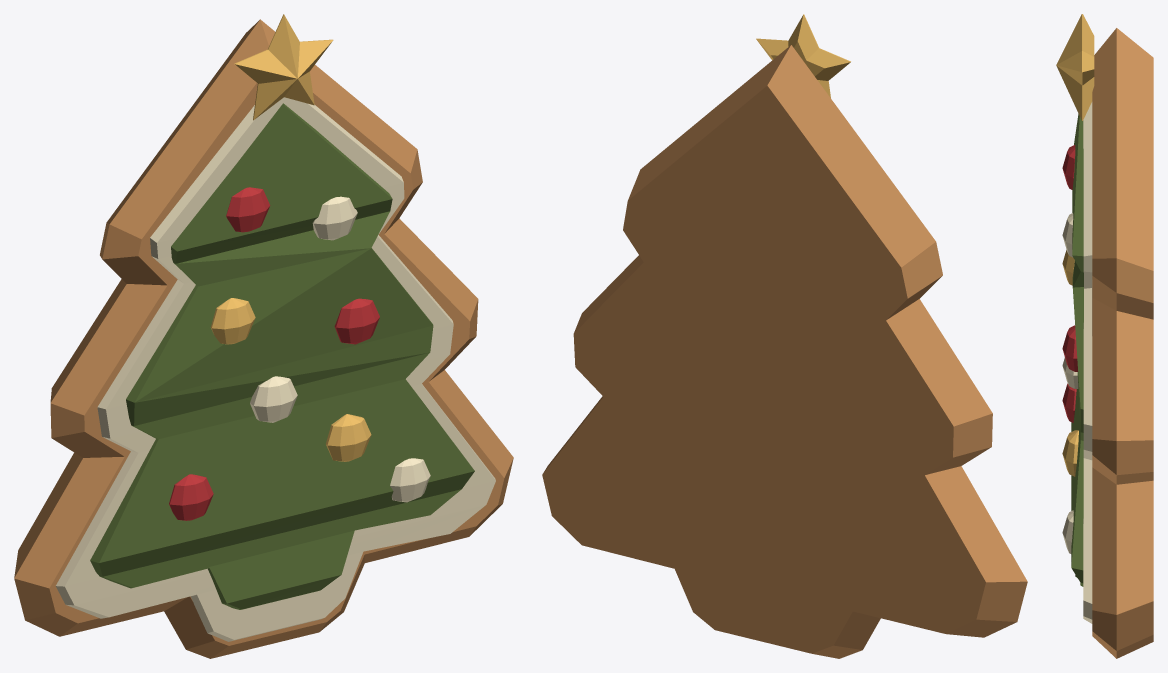
The model's file is 14 Christmas Tree Cookie.glb.
3 renders of one model, left to right at view 1: azimuth 30°, elevation 25°; view 2: azimuth 150°, elevation 25°; view 3: azimuth 270°, elevation 25°, orthographic. The views are drawn at different scales.
Parts seen in each view (by area): view 1: Vanilla border.001, Cookie, Vanilla border, Five point star, Sugar button 5, Sugar button 6, Sugar button 3, Sugar button 7, Sugar button 4, Sugar button 1, Sugar button 2, Sugar button 8; view 2: Cookie, Five point star; view 3: Cookie, Vanilla border, Vanilla border.001, Five point star, Sugar button 6, Sugar button 4, Sugar button 1, Sugar button 7, Sugar button 2, Sugar button 8, Sugar button 3, Sugar button 5.
Boxes of the visible parts, x1,y1,x2,y2 form: Vanilla border.001: [90, 103, 474, 609]; Cookie: [14, 19, 513, 658]; Vanilla border: [56, 97, 495, 641]; Five point star: [234, 14, 333, 120]; Sugar button 5: [250, 376, 297, 422]; Sugar button 6: [326, 414, 371, 461]; Sugar button 3: [210, 298, 255, 344]; Sugar button 7: [169, 474, 213, 520]; Sugar button 4: [334, 298, 379, 344]; Sugar button 1: [226, 187, 270, 232]; Sugar button 2: [312, 196, 357, 240]; Sugar button 8: [390, 458, 430, 502]; Cookie: [542, 45, 1027, 658]; Five point star: [756, 14, 850, 97]; Cookie: [1092, 28, 1153, 658]; Vanilla border: [1083, 102, 1092, 623]; Vanilla border.001: [1071, 113, 1083, 586]; Five point star: [1056, 14, 1094, 120]; Sugar button 6: [1062, 430, 1078, 476]; Sugar button 4: [1062, 325, 1078, 371]; Sugar button 1: [1062, 145, 1075, 189]; Sugar button 7: [1062, 383, 1076, 422]; Sugar button 2: [1062, 213, 1073, 257]; Sugar button 8: [1062, 510, 1073, 553]; Sugar button 3: [1062, 250, 1074, 285]; Sugar button 5: [1062, 357, 1078, 388].
Bounding box in the file's own units: 5.83 × 7.18 × 1.05.
